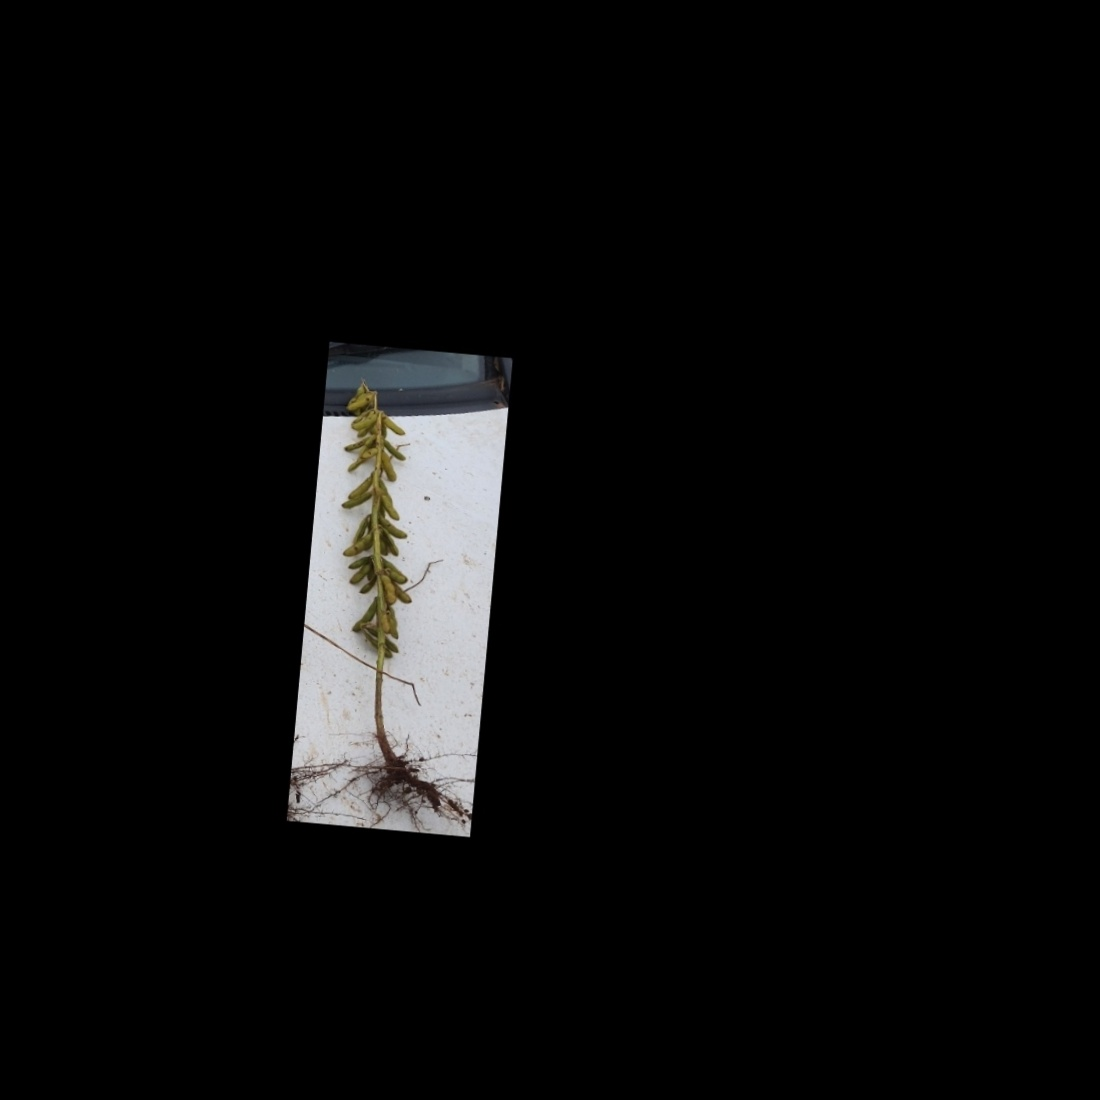pod: (350, 594, 376, 634), (376, 450, 400, 486), (381, 414, 411, 437), (376, 572, 397, 604), (378, 495, 402, 521), (358, 574, 378, 596)
soy: (293, 371, 483, 811)
